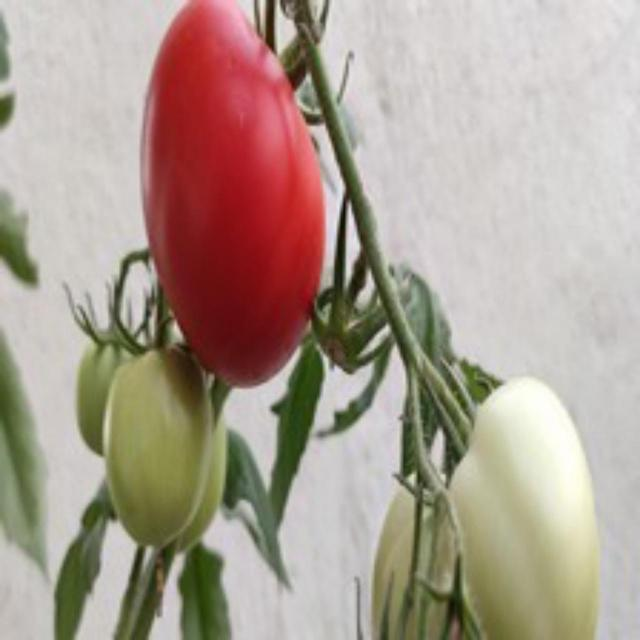tomato: (135, 0, 344, 398)
